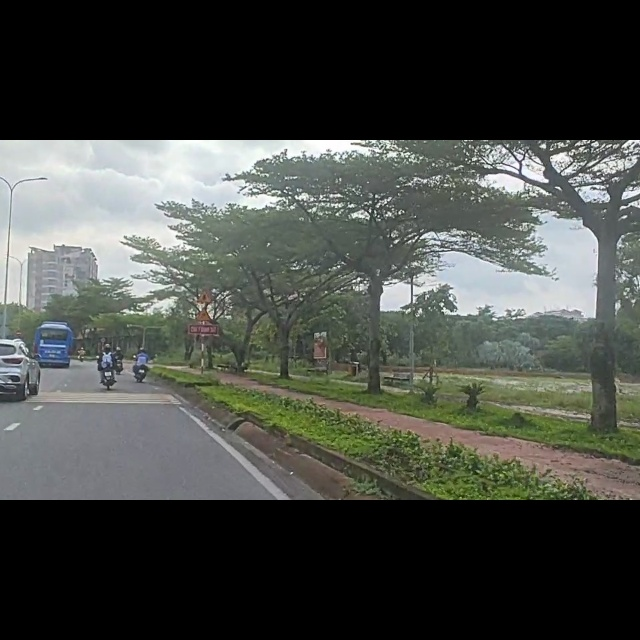bien_nguy_hiem: (195, 297, 215, 326), (195, 261, 214, 290)
